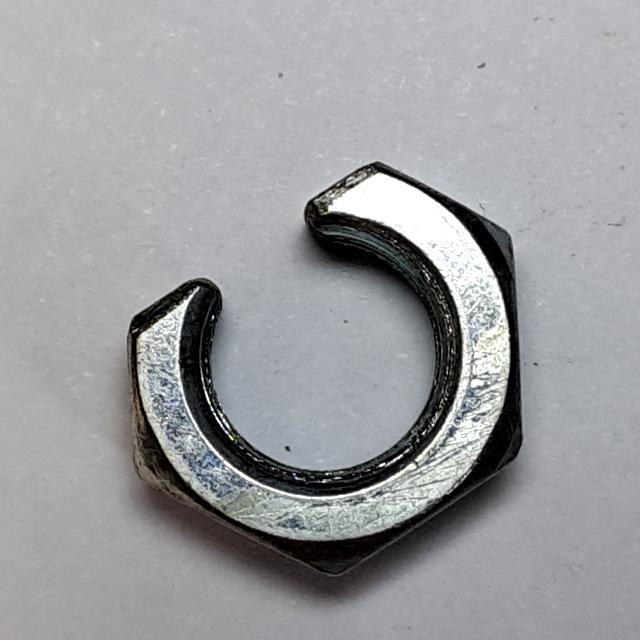Fracture: (113, 143, 550, 599)
